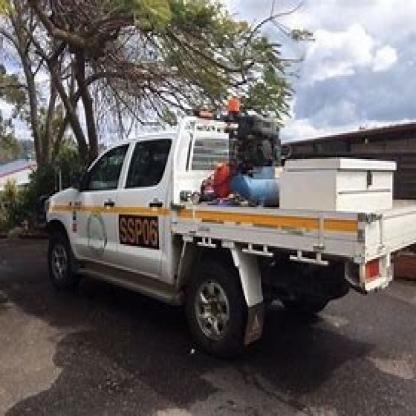light_vehicle: (37, 107, 415, 355)
